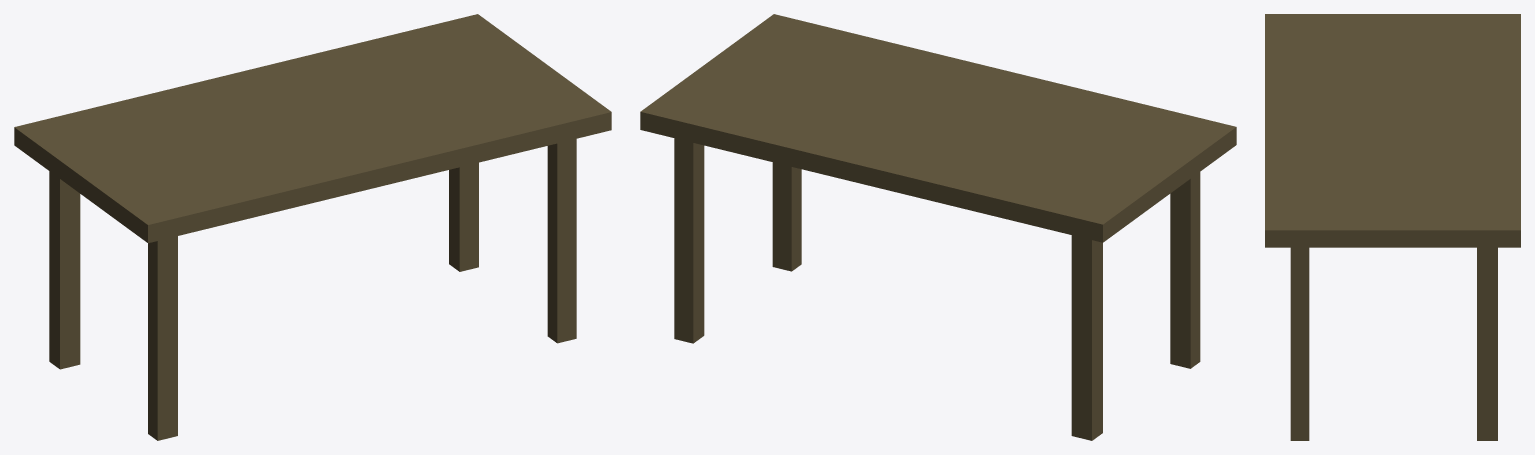
File: Table.fbx
3 views of the same model, side by side, from view 1: azimuth 30°, elevation 25°; view 2: azimuth 150°, elevation 25°; view 3: azimuth 270°, elevation 25° (orthographic). The views are drawn at different scales.
Visible parts, largest first — view 1: Table; view 2: Table; view 3: Table.
Boxes of the visible parts, x1,y1,x2,y2 form: Table: (14,14,611,440); Table: (640,14,1236,440); Table: (1265,14,1520,440).
Size of the model in its own units: 8 by 3.81 by 4.
